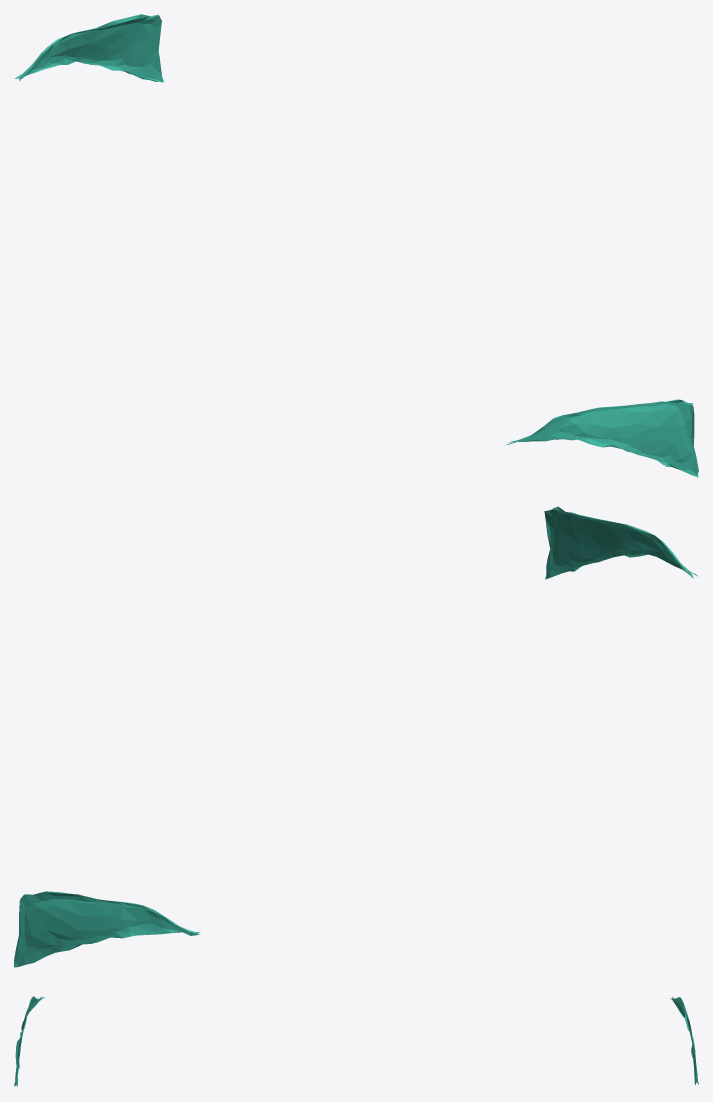
The picture shows the model from 3 angles, top to bottom: view 1: azimuth 30°, elevation 25°; view 2: azimuth 150°, elevation 25°; view 3: azimuth 270°, elevation 25°; orthographic projection. The views are drawn at different scales.
Visible parts, largest first — view 1: 849.obj; view 2: 849.obj; view 3: 849.obj.
Boxes of the visible parts, x1,y1,x2,y2 form: 849.obj: (14,14,698,477); 849.obj: (14,506,698,967); 849.obj: (14,996,698,1086).
Bounding box in the file's own units: 1492 × 692 × 8010.
